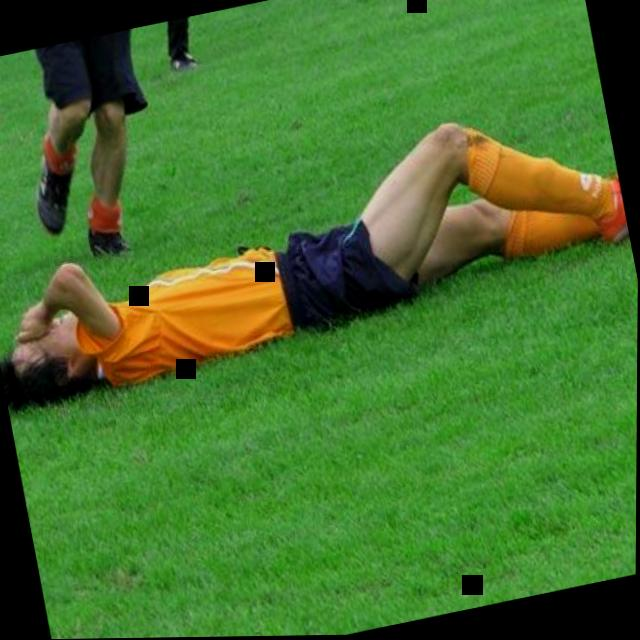Fall-Detected: (0, 89, 639, 415)
